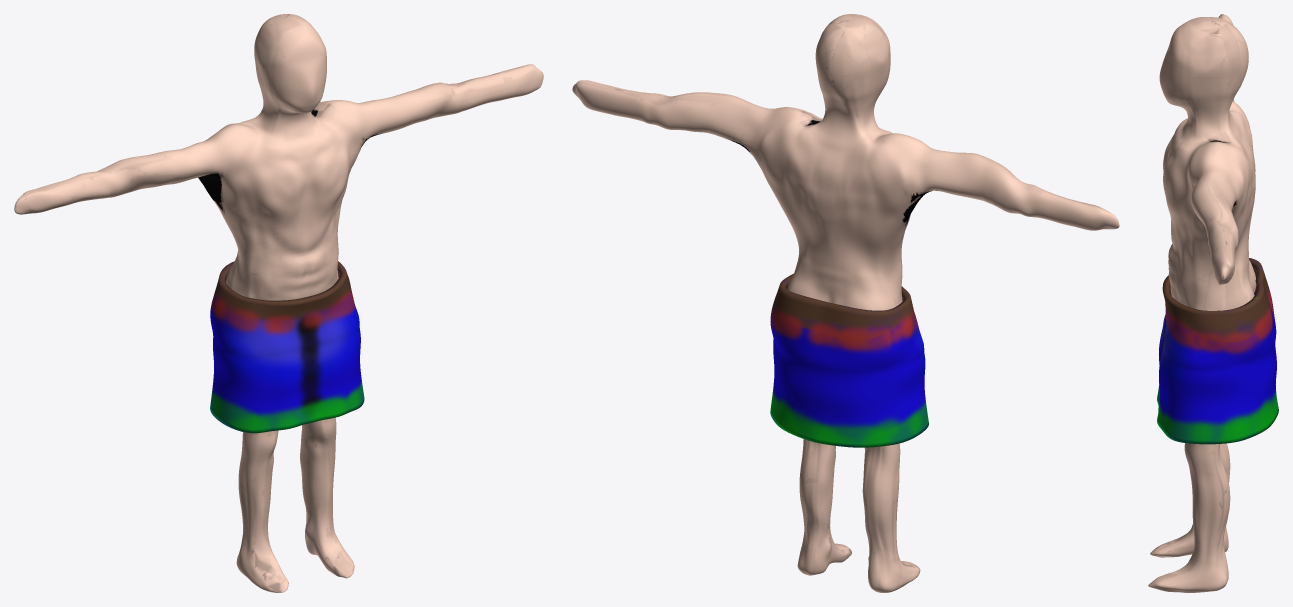
The model's file is mainchar_sopro_sculp3sub_trousers_2.fbx.
3 views of the same model, side by side, from view 1: azimuth 30°, elevation 25°; view 2: azimuth 150°, elevation 25°; view 3: azimuth 270°, elevation 25° (orthographic). The views are drawn at different scales.
Visible parts, largest first — view 1: Player, Rock; view 2: Player, Rock; view 3: Player, Rock.
Part boxes in pixels (<box>): Player: <box>14,14,543,592</box>; Rock: <box>210,261,364,433</box>; Player: <box>572,14,1119,592</box>; Rock: <box>770,273,928,447</box>; Player: <box>1148,14,1256,592</box>; Rock: <box>1157,258,1278,444</box>.
Size of the model in its own units: 2.9 by 2.86 by 0.6135.
Materials: 2 (2 with a texture image).
